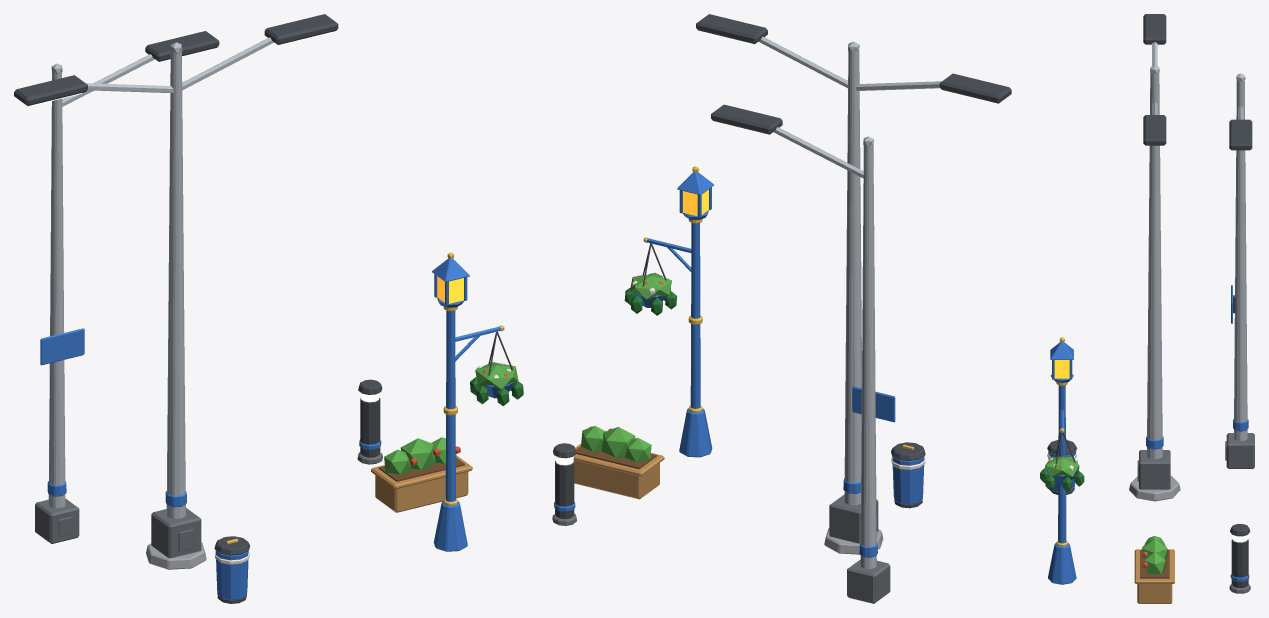
Rendered from town-streetlight-set.glb.
The picture shows the model from 3 angles, left to right: view 1: azimuth 30°, elevation 25°; view 2: azimuth 150°, elevation 25°; view 3: azimuth 270°, elevation 25°; orthographic projection. The views are drawn at different scales.
Visible parts, largest first — view 1: Double_Pole, Single_Pole, Planter_Body, Lamp_Pole, Double_Plinth, Single_Plinth, Double_Head_L, Double_Head_R, Bin_Body, Lamp_Base, Single_SignBlank, Single_Head (+7 smaller); view 2: Double_Pole, Single_Pole, Planter_Body, Lamp_Pole, Single_Plinth, Double_Plinth, Double_Head_L, Bin_Body, Double_Head_R, Single_Head, Lamp_Base, Bollard_Body (+8 smaller); view 3: Double_Pole, Single_Pole, Double_Plinth, Lamp_Pole, Single_Plinth, Lamp_Base, Bollard_Body, Single_Head, Double_Head_R, Double_Head_L, Planter_Body, Double_Footing (+7 smaller).
Part boxes in pixels (left/top/right/bottom): Double_Pole: left=166, top=51, right=185, bottom=518; Single_Pole: left=48, top=72, right=65, bottom=508; Planter_Body: left=375, top=471, right=468, bottom=512; Lamp_Pole: left=445, top=310, right=455, bottom=501; Double_Plinth: left=151, top=508, right=201, bottom=558; Single_Plinth: left=35, top=498, right=79, bottom=543; Double_Head_L: left=14, top=75, right=87, bottom=105; Double_Head_R: left=264, top=14, right=338, bottom=44; Bin_Body: left=215, top=550, right=248, bottom=599; Lamp_Base: left=433, top=501, right=467, bottom=551; Single_SignBlank: left=40, top=328, right=84, bottom=365; Single_Head: left=145, top=31, right=219, bottom=61; Double_Pole: left=844, top=50, right=861, bottom=505; Single_Pole: left=860, top=144, right=876, bottom=568; Planter_Body: left=574, top=460, right=659, bottom=499; Lamp_Pole: left=690, top=223, right=700, bottom=408; Single_Plinth: left=847, top=559, right=890, bottom=603; Double_Plinth: left=829, top=494, right=878, bottom=543; Double_Head_L: left=939, top=73, right=1011, bottom=103; Bin_Body: left=892, top=456, right=924, bottom=504; Double_Head_R: left=696, top=14, right=767, bottom=44; Single_Head: left=711, top=104, right=782, bottom=134; Lamp_Base: left=679, top=408, right=712, bottom=457; Bollard_Body: left=555, top=461, right=574, bottom=518; Double_Pole: left=1147, top=72, right=1162, bottom=459; Single_Pole: left=1234, top=80, right=1247, bottom=441; Double_Plinth: left=1139, top=450, right=1170, bottom=489; Lamp_Pole: left=1058, top=385, right=1066, bottom=543; Single_Plinth: left=1226, top=433, right=1254, bottom=468; Lamp_Base: left=1048, top=543, right=1076, bottom=584; Bollard_Body: left=1231, top=539, right=1248, bottom=587; Single_Head: left=1229, top=119, right=1252, bottom=150; Double_Head_R: left=1143, top=115, right=1166, bottom=145; Double_Head_L: left=1143, top=14, right=1166, bottom=44; Planter_Body: left=1137, top=584, right=1172, bottom=603; Double_Footing: left=1129, top=476, right=1180, bottom=501.
Bounding box in the file's own units: 24.12 × 26.73 × 12.22.
